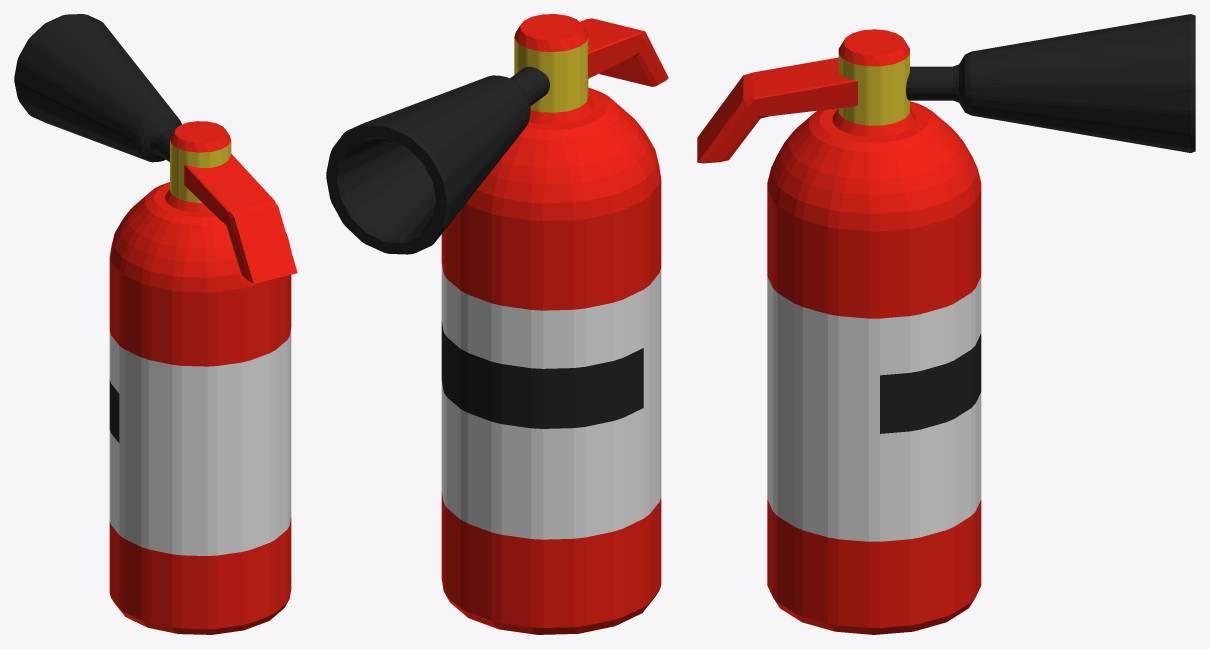
File: Fire_extinguisher.fbx
The picture shows the model from 3 angles, left to right: view 1: azimuth 30°, elevation 25°; view 2: azimuth 150°, elevation 25°; view 3: azimuth 270°, elevation 25°; orthographic projection. The views are drawn at different scales.
Visible parts, largest first — view 1: Cylinder.001; view 2: Cylinder.001; view 3: Cylinder.001.
Boxes of the visible parts, left/top/right/bottom form: Cylinder.001: left=14, top=14, right=297, bottom=634; Cylinder.001: left=326, top=14, right=668, bottom=634; Cylinder.001: left=697, top=14, right=1195, bottom=634.
Bounding box in the file's own units: 83.81 × 247 × 195.
